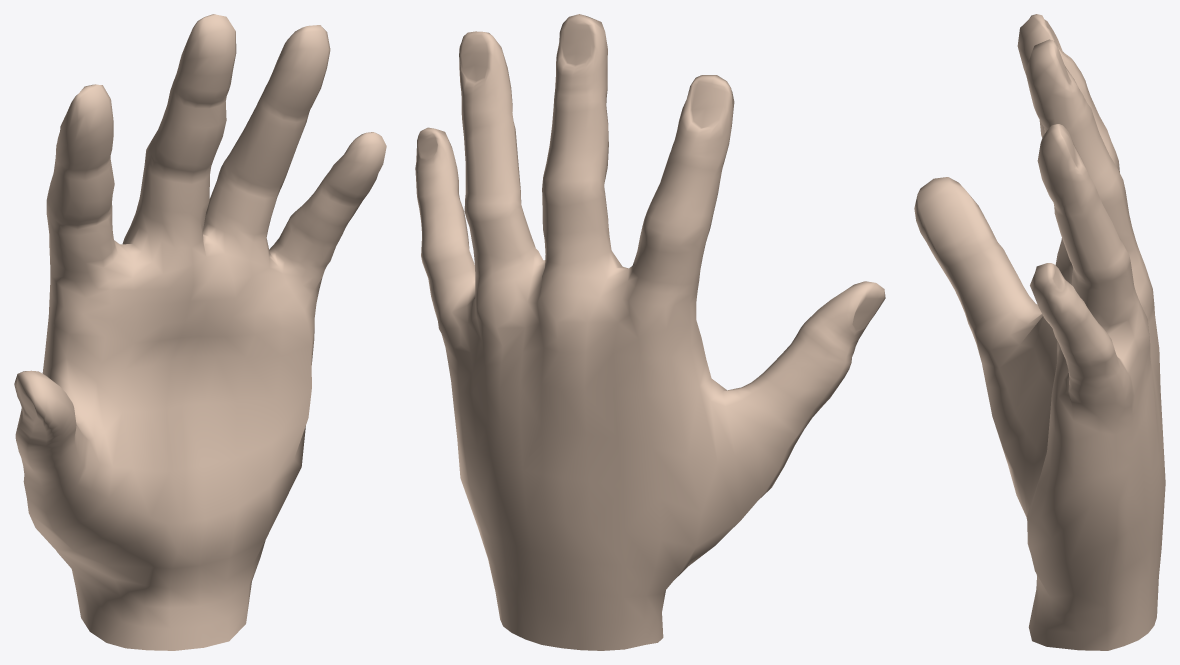
Rendered from hands.fbx.
3 views of the same model, side by side, from view 1: azimuth 30°, elevation 25°; view 2: azimuth 150°, elevation 25°; view 3: azimuth 270°, elevation 25° (orthographic). The views are drawn at different scales.
Visible parts, largest first — view 1: womanMesh; view 2: womanMesh; view 3: womanMesh.
Part boxes in pixels (x1,y1,x2,y2): womanMesh: (14, 14, 386, 650); womanMesh: (415, 14, 885, 650); womanMesh: (914, 14, 1165, 650).
Bounding box in the file's own units: 121 × 171 × 65.56.
